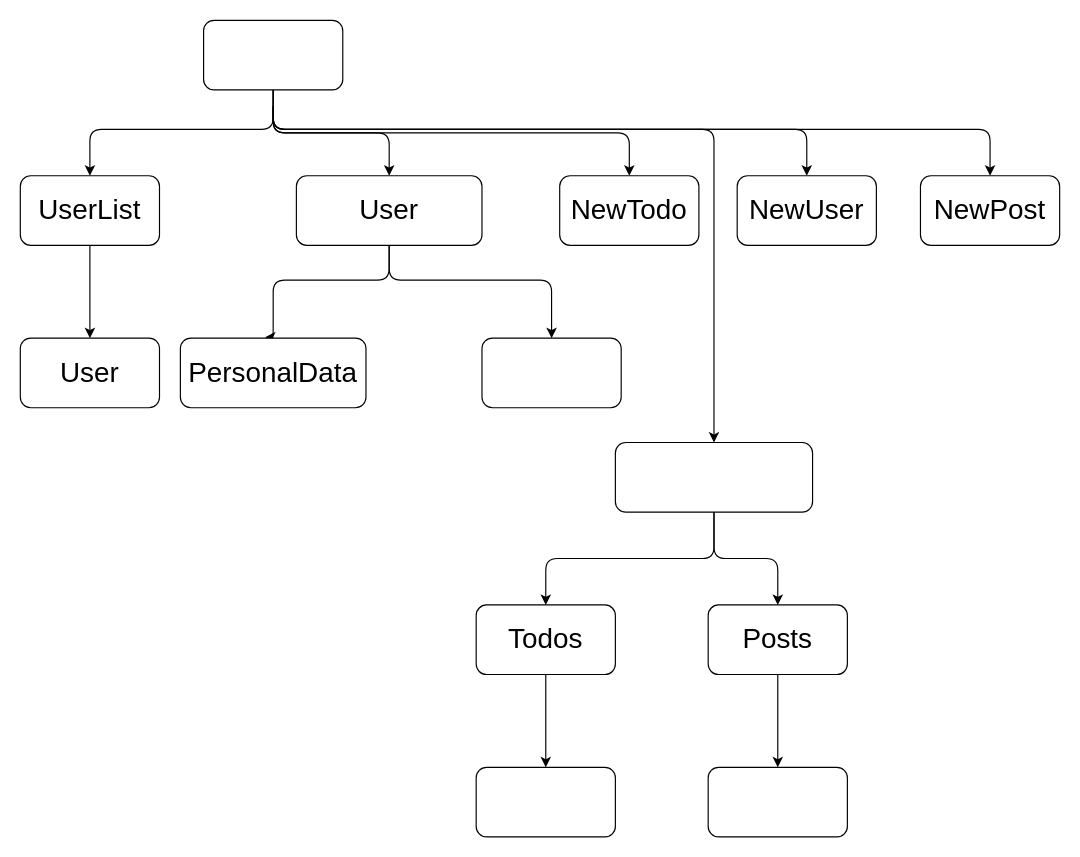
Image size: 1080x857. Some labels were removed from this diagram. Each missing label, with the box of its shape:
App: (202, 19, 343, 90)
OtherData: (481, 337, 621, 408)
Post: (707, 766, 847, 837)
SelectedUser: (614, 441, 813, 512)
Todo: (475, 766, 615, 837)
